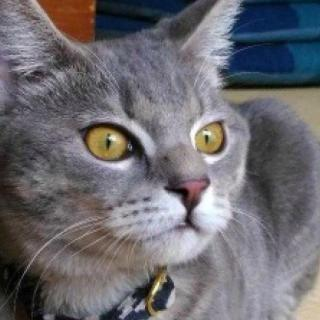cat: (0, 0, 259, 284)
nose: (154, 158, 217, 216)
